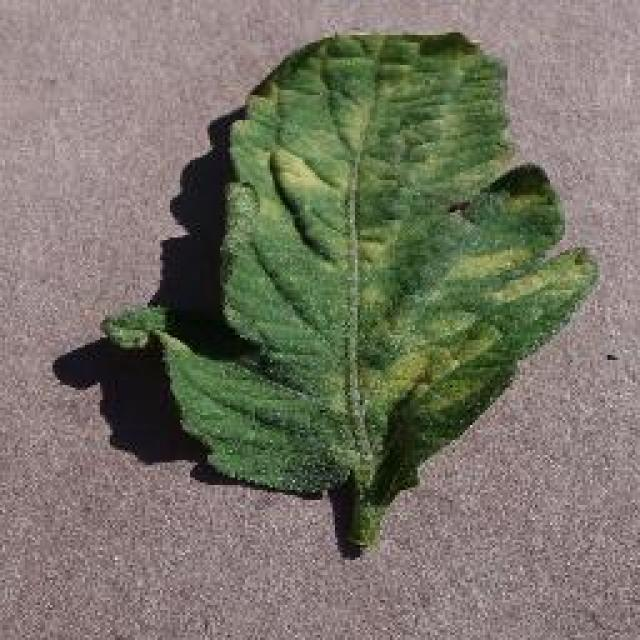Tomato mold leaf: (100, 28, 598, 500)
